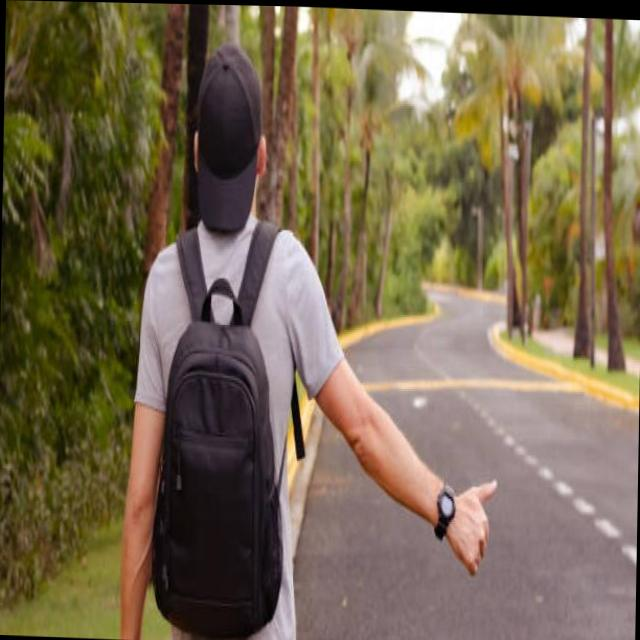no helmet: (182, 40, 274, 249)
